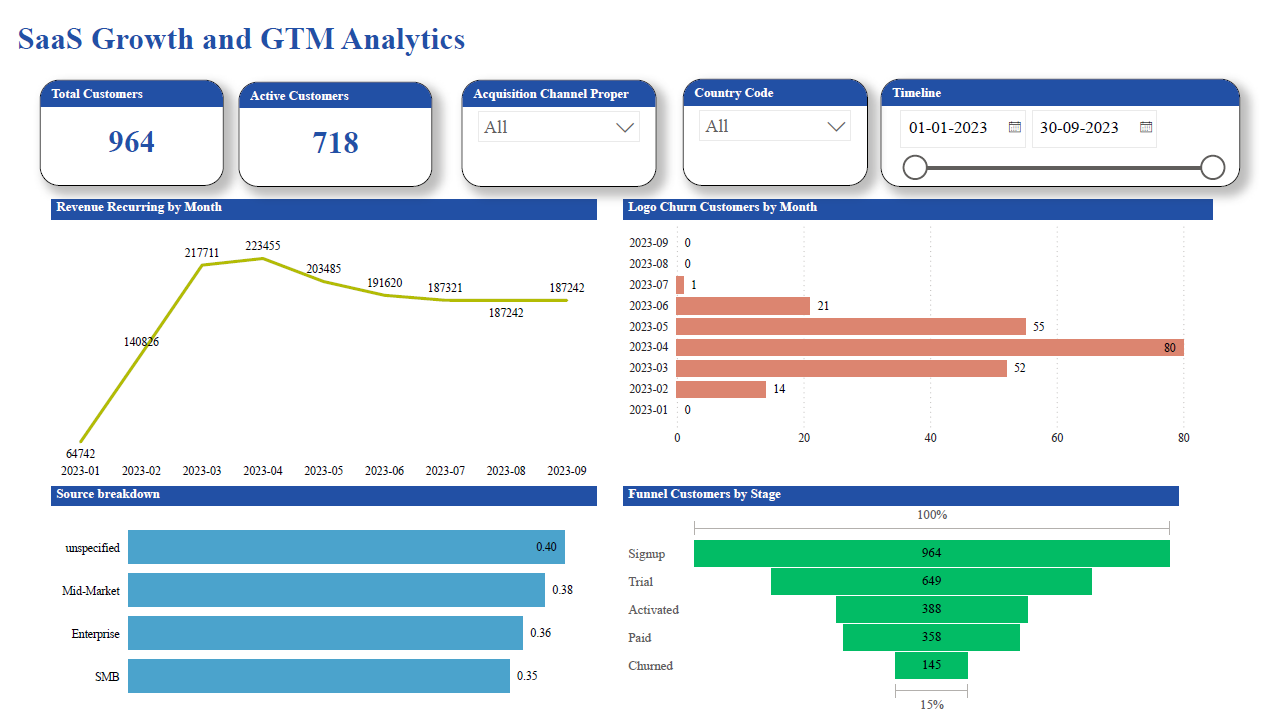

This screenshot's page, from the dashboard's own definition file:
{"tool":"powerbi","page":{"name":"SaaS Growth and GTM Analytics","canvas":[1280,720],"ordinal":0},"visuals":[{"type":"lineChart","title":"Revenue Recurring by Month","fields":{"Category":["MRR.mrr_month (bins)"],"Y":["Sum(MRR.mrr)"]},"box":[40.5,189.4,558.6,293.1],"z":0},{"type":"funnel","fields":{"Category":["FunnelStage.Stage"],"Y":["Measure.Funnel Customers"]},"box":[626.6,482.5,570,238],"z":1000},{"type":"clusteredBarChart","title":"Logo Churn Customers by Month","fields":{"Category":["Dates.YearMonthCode"],"Y":["Measure.Logo Churn Customers"]},"box":[626.6,189.4,605.6,259.1],"z":2000},{"type":"slicer","title":"Timeline","fields":{"Values":["Dates.dates"]},"box":[890.6,64.8,369.2,111.7],"z":3000},{"type":"clusteredBarChart","title":"Source breakdown","fields":{"Y":["Measure.CR Signup to Paid (Channel)"],"Category":["customers.segment"]},"box":[40.5,482.5,558.6,236.4],"z":4000},{"type":"textbox","box":[0,0,660,52.1],"z":5000},{"type":"card","title":"Total Customers","fields":{"Values":["Count(CustomerFunnel.customer_id)"]},"box":[27.5,66.4,189.4,108.5],"z":6000},{"type":"card","title":"Active Customers","fields":{"Values":["Measure.Active Customers"]},"box":[231.5,68,199.2,108.5],"z":7000},{"type":"slicer","title":"Acquisition Channel Proper","fields":{"Values":["CustomerFunnel.Acquisition Channel Proper"]},"box":[461.5,66.4,199.2,110.1],"z":8000},{"type":"slicer","title":"Country Code","fields":{"Values":["CustomerFunnel.country"]},"box":[688.2,64.8,189.4,110.1],"z":9000}]}

Visuals, with their boxes in screenshot pixels (x1, y1, x2, y2), scaled from the page's 1280x720 canvas onto the 1270x721 screenshot:
"Revenue Recurring by Month" lineChart: x1=40, y1=190, x2=594, y2=483
funnel - FunnelStage.Stage x Measure.Funnel Customers: x1=622, y1=483, x2=1187, y2=720
"Logo Churn Customers by Month" clusteredBarChart: x1=622, y1=190, x2=1223, y2=449
"Timeline" slicer: x1=884, y1=65, x2=1250, y2=177
"Source breakdown" clusteredBarChart: x1=40, y1=483, x2=594, y2=720
textbox: x1=0, y1=0, x2=655, y2=52
"Total Customers" card: x1=27, y1=66, x2=215, y2=175
"Active Customers" card: x1=230, y1=68, x2=427, y2=177
"Acquisition Channel Proper" slicer: x1=458, y1=66, x2=656, y2=177
"Country Code" slicer: x1=683, y1=65, x2=871, y2=175
